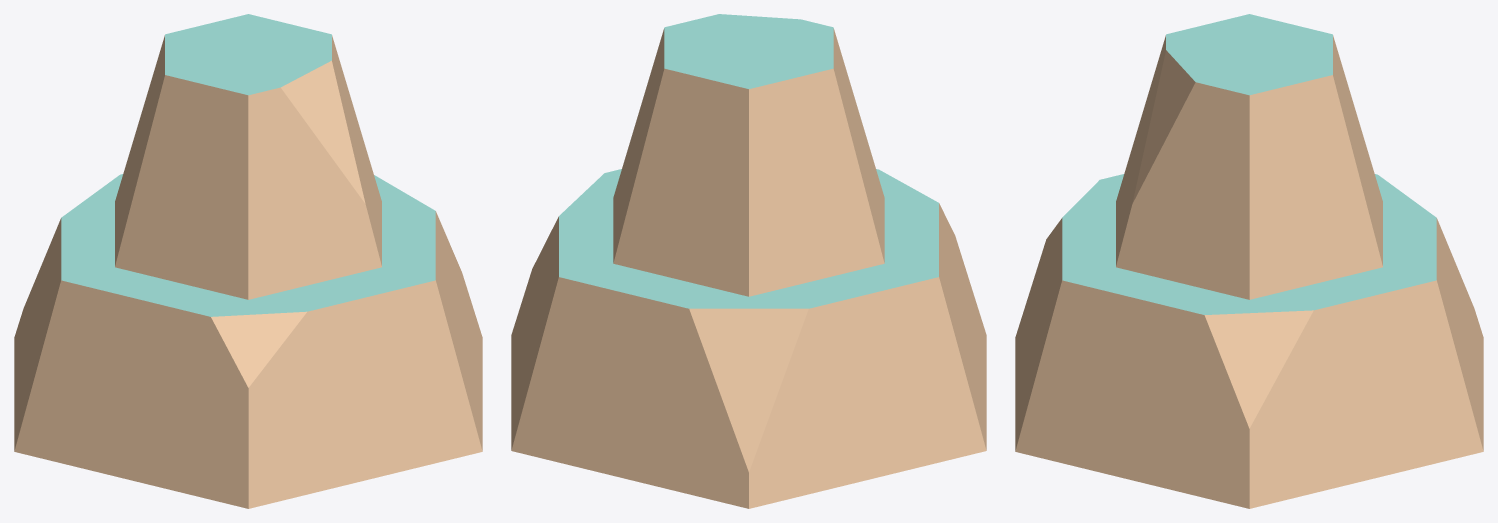
The model's file is rock_small6.glb.
3 views of the same model, side by side, from view 1: azimuth 30°, elevation 25°; view 2: azimuth 150°, elevation 25°; view 3: azimuth 270°, elevation 25° (orthographic).
Visible parts, largest first — view 1: rock_small6; view 2: rock_small6; view 3: rock_small6.
Boxes of the visible parts, box(x1,y1,x2,y2) form: rock_small6: box(14, 14, 482, 508); rock_small6: box(511, 14, 986, 508); rock_small6: box(1015, 14, 1483, 508).
Size of the model in its own units: 0.3536 by 0.2453 by 0.3062.
